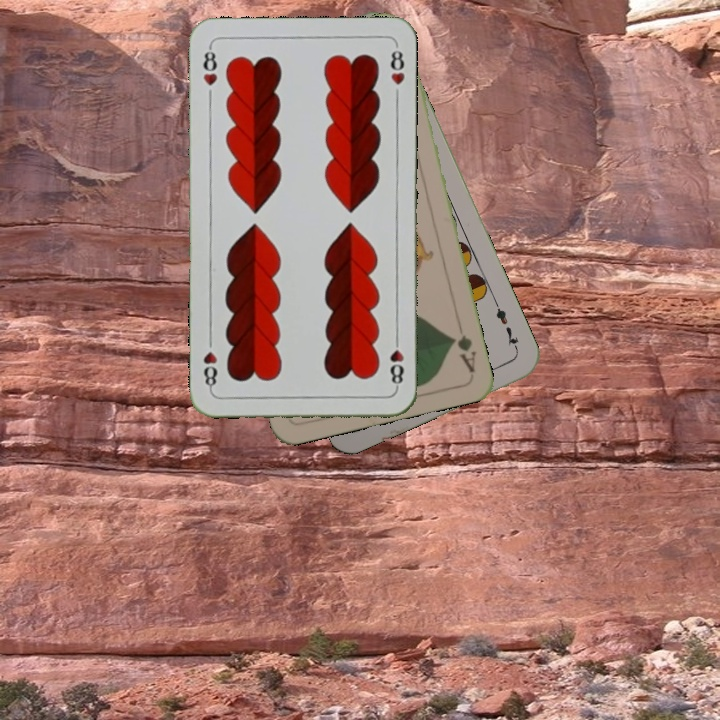E7: (491, 298, 522, 354)
GA: (447, 318, 479, 375)
H8: (386, 332, 406, 391), (199, 42, 219, 88)
